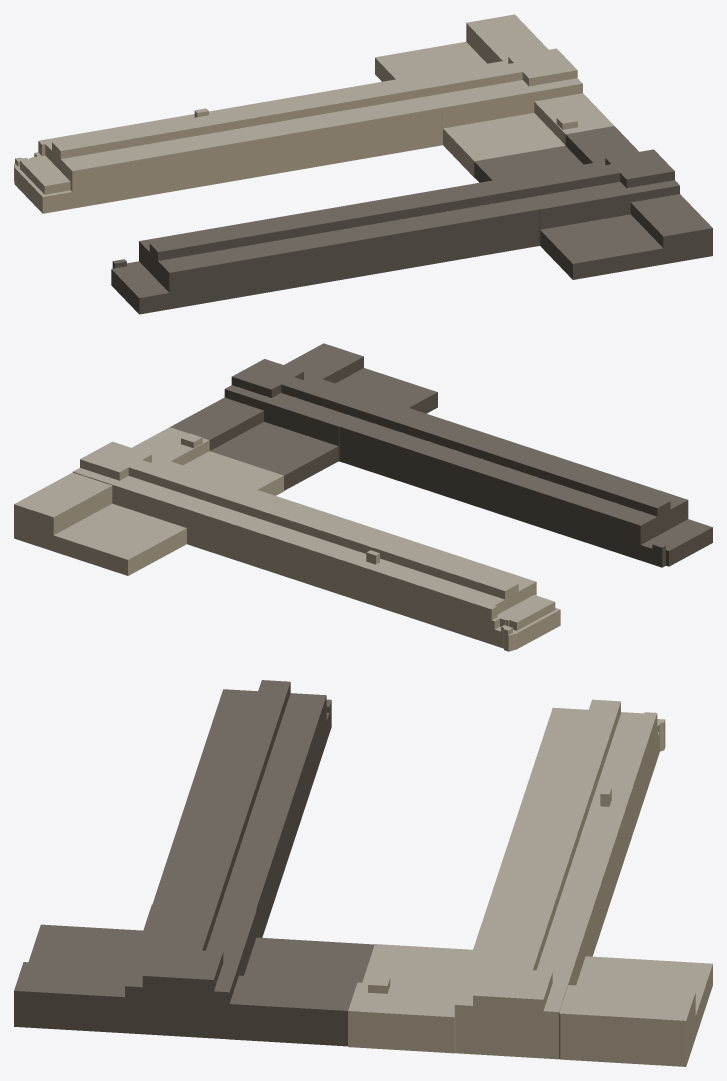
File: tile--6_-10.glb
The picture shows the model from 3 angles, top to bottom: view 1: azimuth 30°, elevation 25°; view 2: azimuth 150°, elevation 25°; view 3: azimuth 270°, elevation 25°; orthographic projection. The views are drawn at different scales.
Visible parts, largest first — view 1: wall, roof; view 2: roof, wall; view 3: roof, wall.
Part boxes in pixels (bbox=[...]): wall: bbox=[14, 23, 712, 314]; roof: bbox=[14, 14, 712, 297]; roof: bbox=[14, 343, 712, 635]; wall: bbox=[14, 357, 712, 651]; roof: bbox=[14, 680, 712, 1020]; wall: bbox=[14, 682, 712, 1066].
Size of the model in its own units: 282 by 22.57 by 240.
